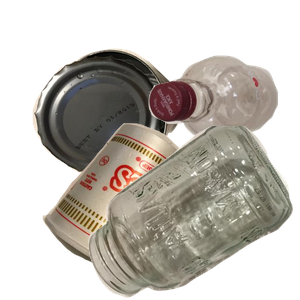glass: (86, 126, 300, 300)
metal: (30, 46, 205, 215)
plastic: (146, 53, 300, 187)
trash: (40, 121, 221, 300)
